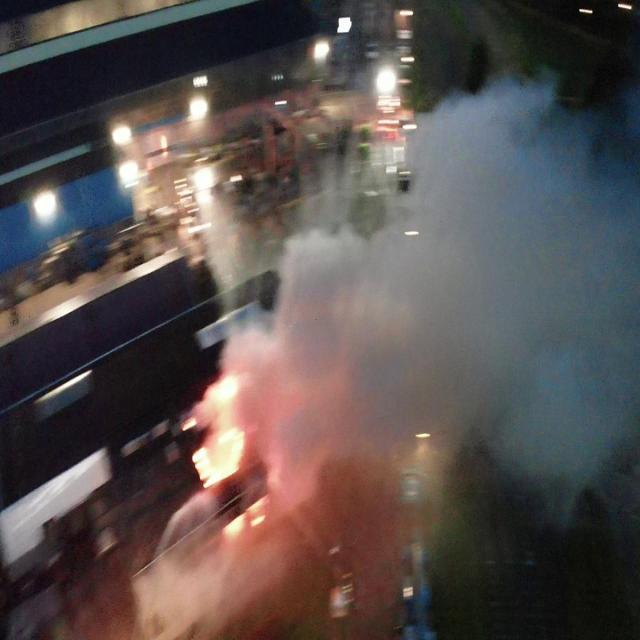Fire: (192, 429, 244, 487), (218, 376, 238, 402), (224, 512, 244, 532), (248, 498, 264, 513), (183, 418, 197, 431), (250, 516, 266, 526)
Smoke: (185, 62, 640, 532)
